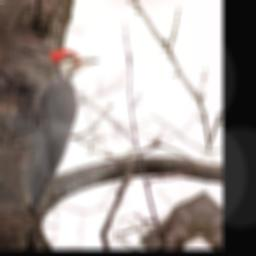Woodpecker: (17, 45, 102, 221)
